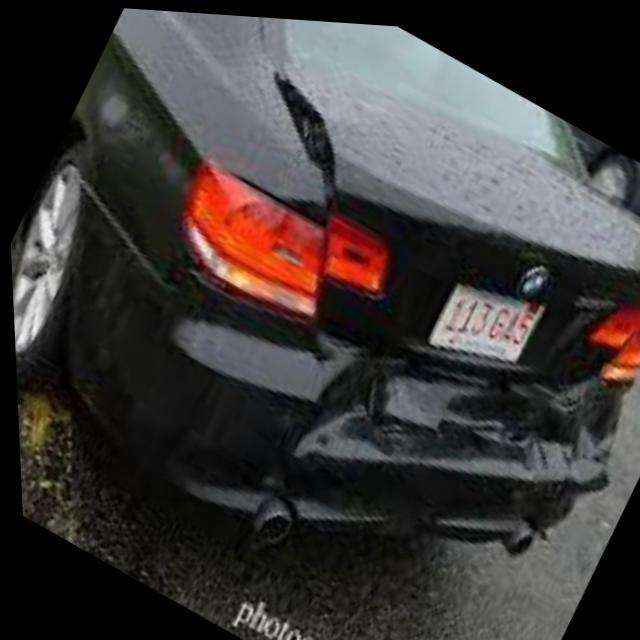dislocated part: (278, 68, 640, 534)
